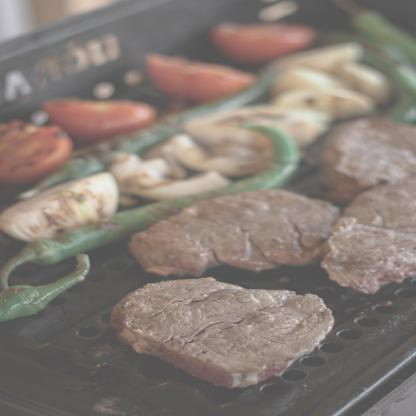Carne: (109, 280, 338, 389), (131, 186, 342, 280), (327, 178, 415, 297), (320, 112, 415, 191)
